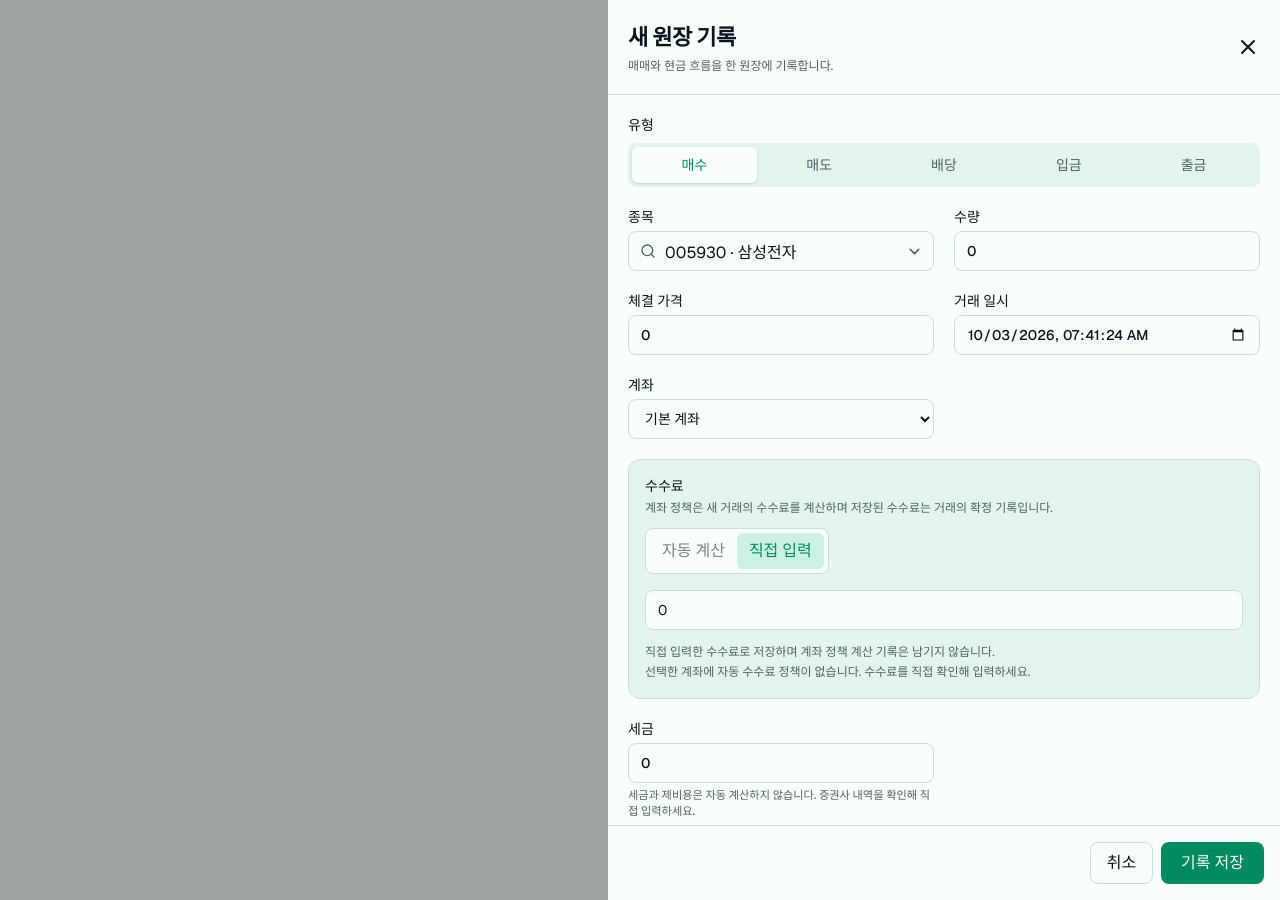
Test: TradeForm › 입금 유형에서는 현금 금액 필드를 표시한다
Click the button "입금" at (1069, 165), box [1006,147,1131,183]
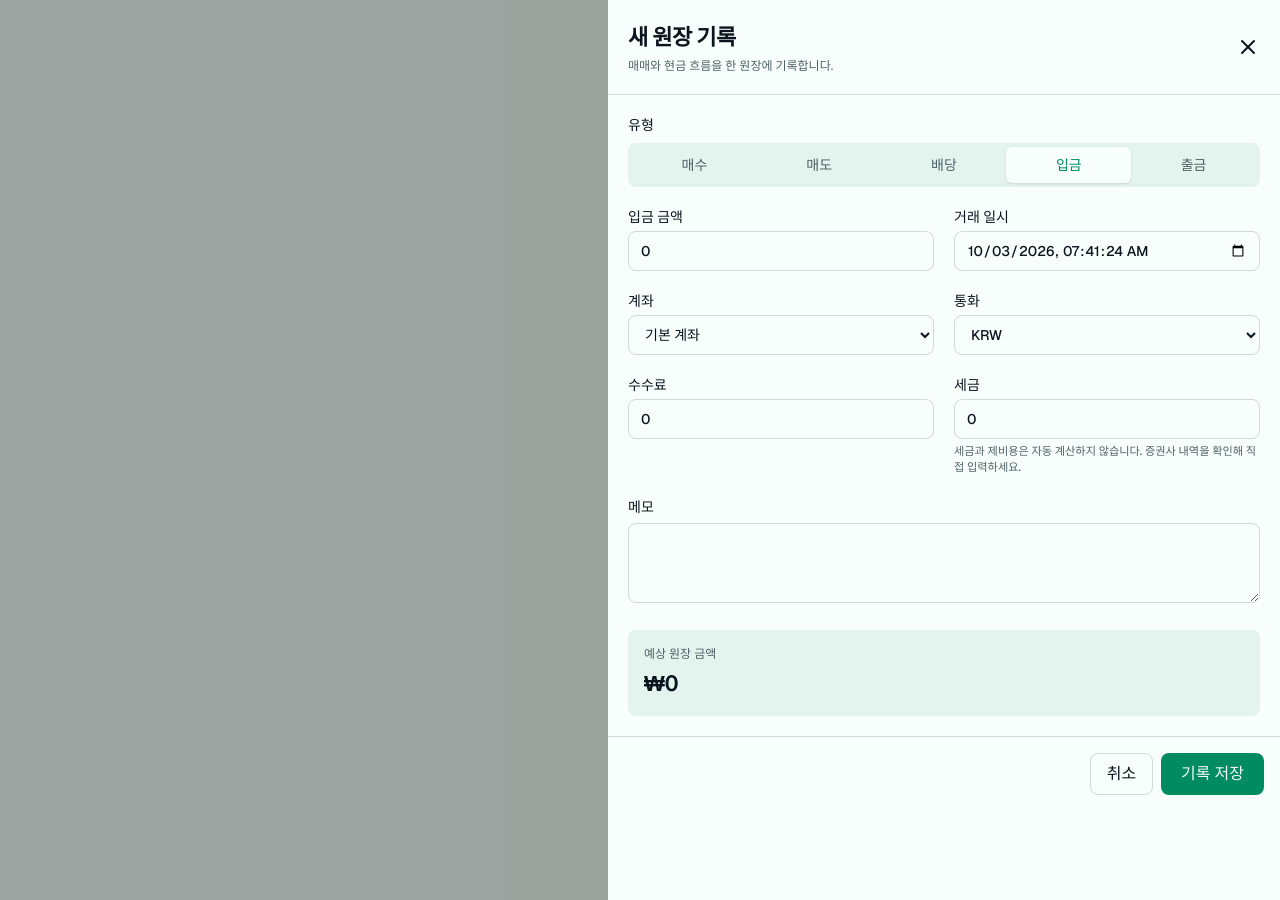
Expected: the number field labelled "입금 금액" is shown, [628,231,934,271]
Now the label labelled "수량" is gone
